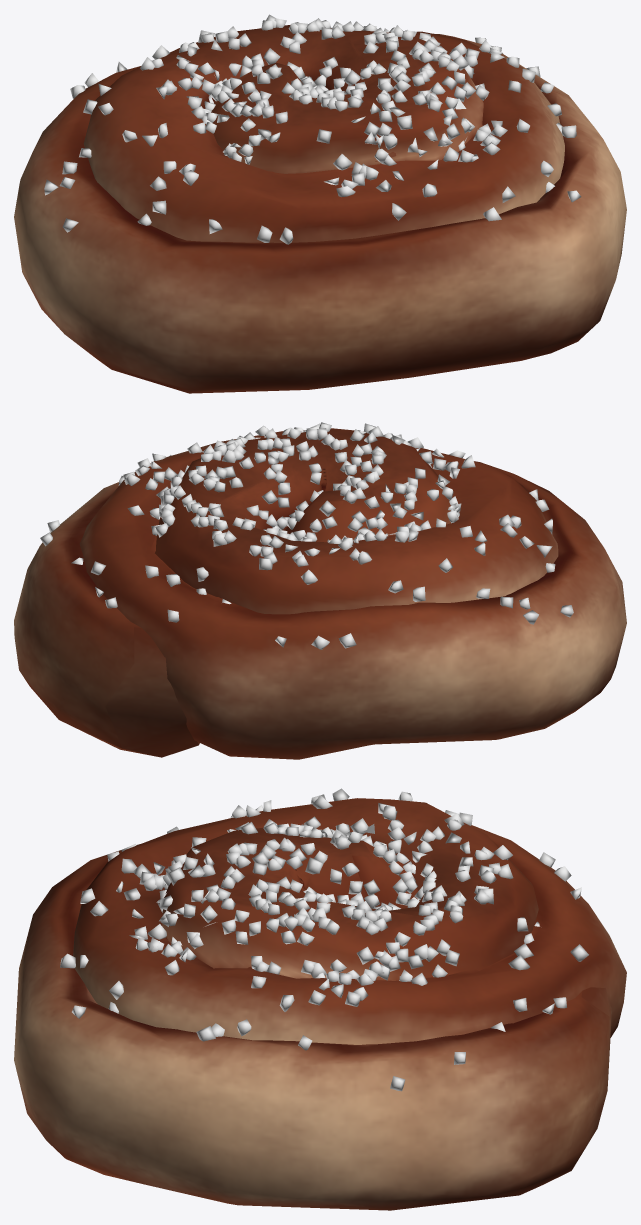
File: kanelbulle.fbx
The picture shows the model from 3 angles, top to bottom: view 1: azimuth 30°, elevation 25°; view 2: azimuth 150°, elevation 25°; view 3: azimuth 270°, elevation 25°; orthographic projection. The views are drawn at different scales.
Visible parts, largest first — view 1: Bulle; view 2: Bulle; view 3: Bulle.
Part boxes in pixels (box(x1,y1,x2,y2)): Bulle: box(14, 14, 626, 393); Bulle: box(14, 422, 626, 759); Bulle: box(14, 788, 626, 1210).
Size of the model in its own units: 99.44 by 41.54 by 91.08.
